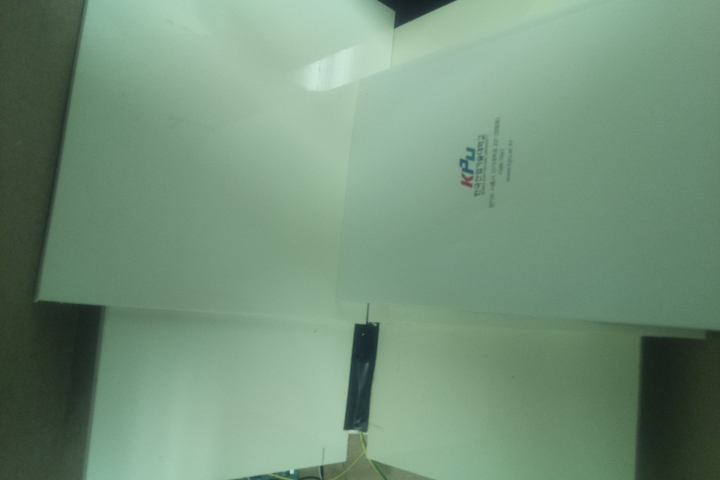book: (333, 1, 720, 336)
